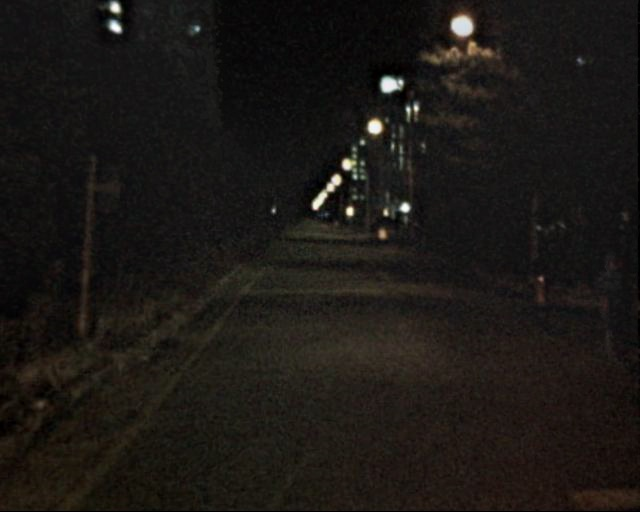person: (593, 252, 630, 363)
